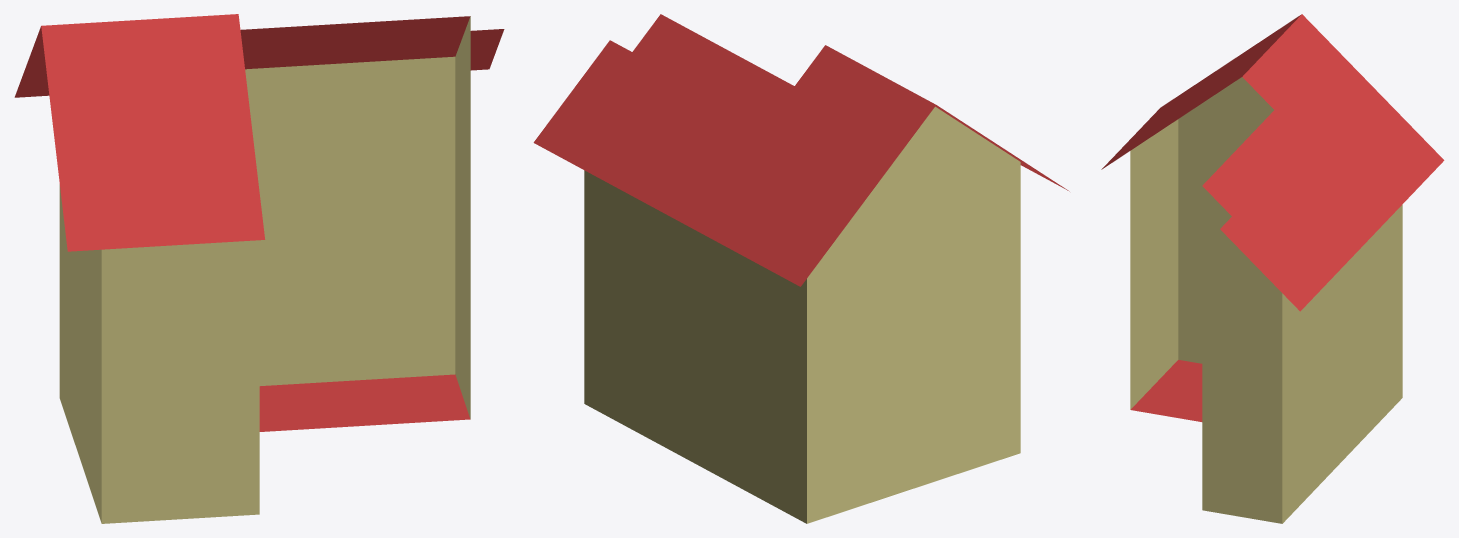
3 views of the same model, side by side, from view 1: azimuth 30°, elevation 25°; view 2: azimuth 150°, elevation 25°; view 3: azimuth 270°, elevation 25° (orthographic). The views are drawn at different scales.
Size of the model in its own units: 11.01 by 8.02 by 9.06.
